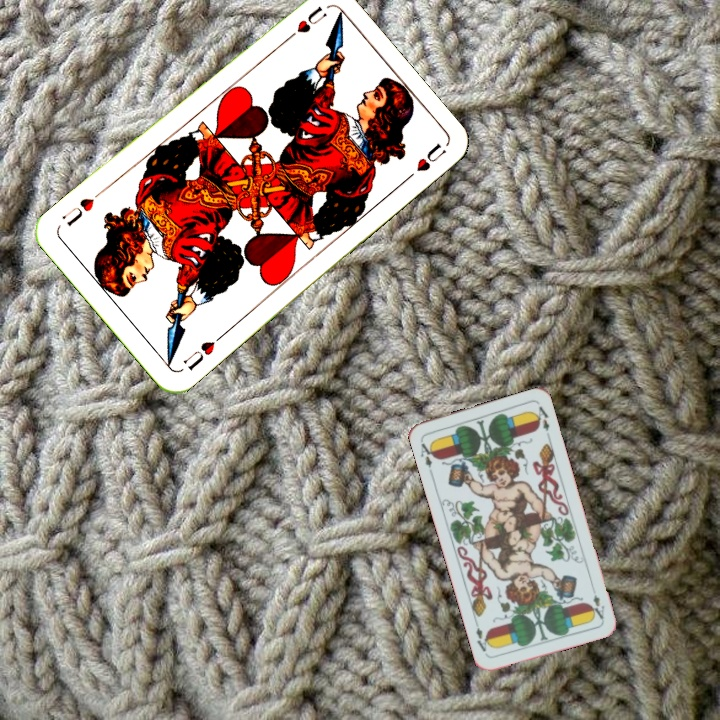EA: (417, 436, 438, 470), (587, 591, 607, 622)
HU: (279, 1, 329, 46), (179, 330, 226, 373)
